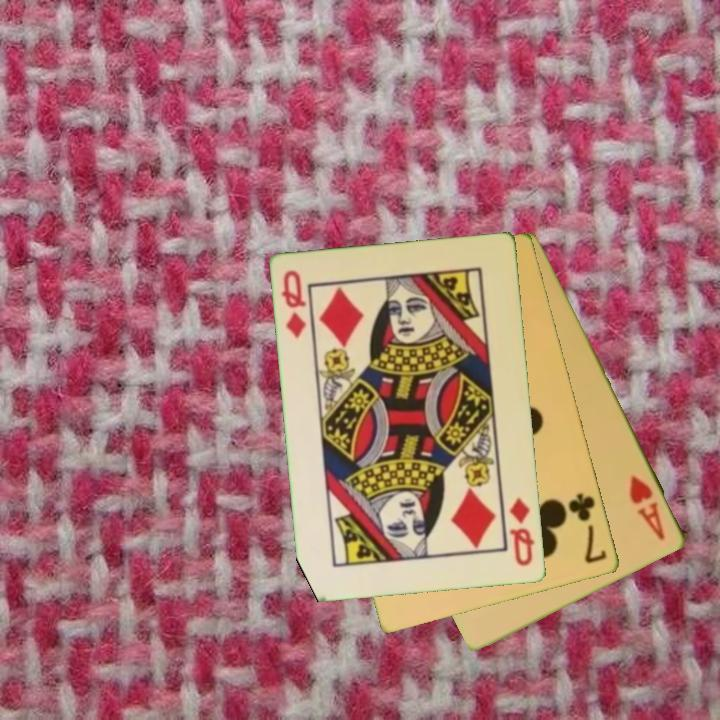7c: (565, 489, 610, 567)
Ah: (626, 472, 669, 544)
Qd: (506, 493, 538, 570), (278, 267, 310, 342)
